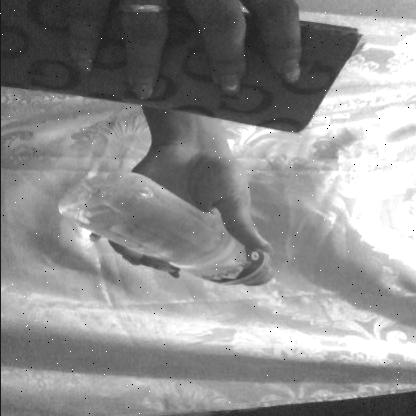Plastic Bottle: (24, 171, 322, 307)
